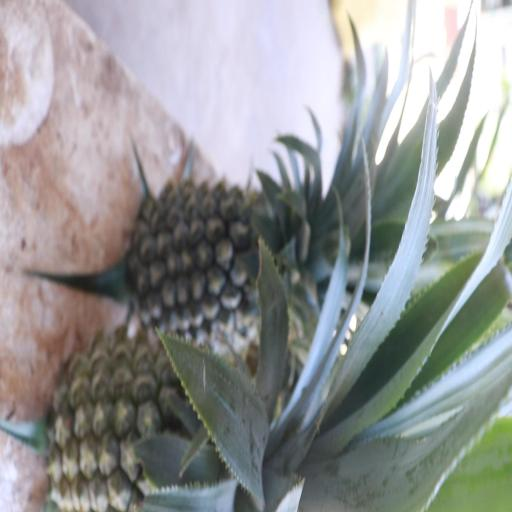------------------------------: (51, 324, 267, 512)
